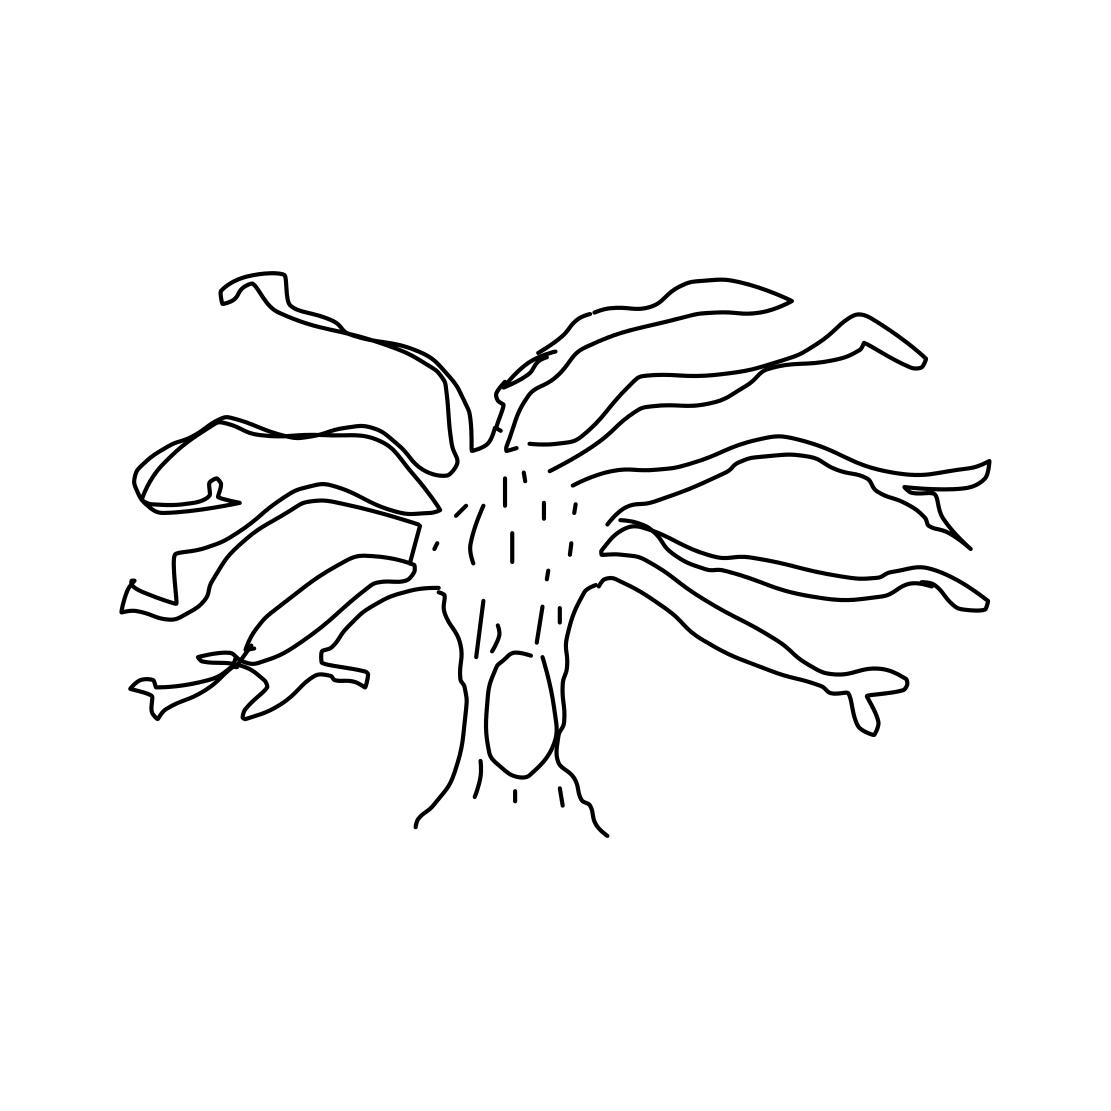Tree: (110, 191, 1006, 862)
